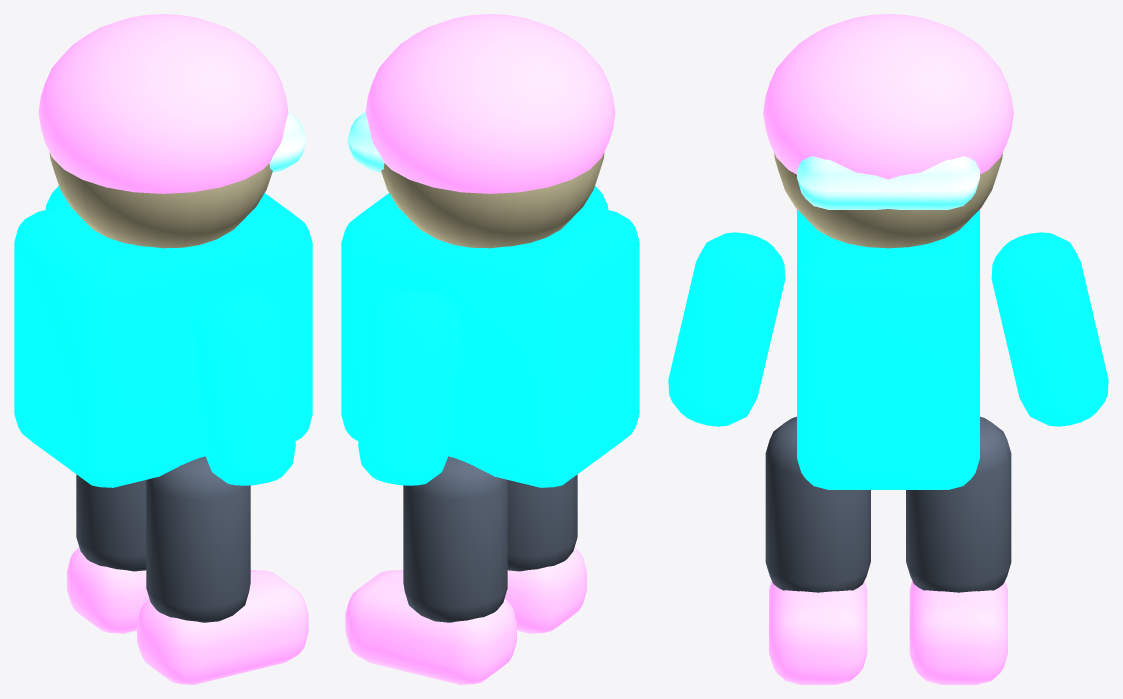
Rendered from SM_Climber_Character.fbx.
The picture shows the model from 3 angles, left to right: view 1: azimuth 30°, elevation 25°; view 2: azimuth 150°, elevation 25°; view 3: azimuth 270°, elevation 25°; orthographic projection.
Visible parts, largest first — view 1: SM_Climber_Character; view 2: SM_Climber_Character; view 3: SM_Climber_Character.
Boxes of the visible parts, box(x1,y1,x2,y2) form: SM_Climber_Character: box(14, 14, 312, 684); SM_Climber_Character: box(341, 14, 639, 684); SM_Climber_Character: box(668, 14, 1108, 684).
Bounding box in the file's own units: 38 × 62.67 × 97.12.
